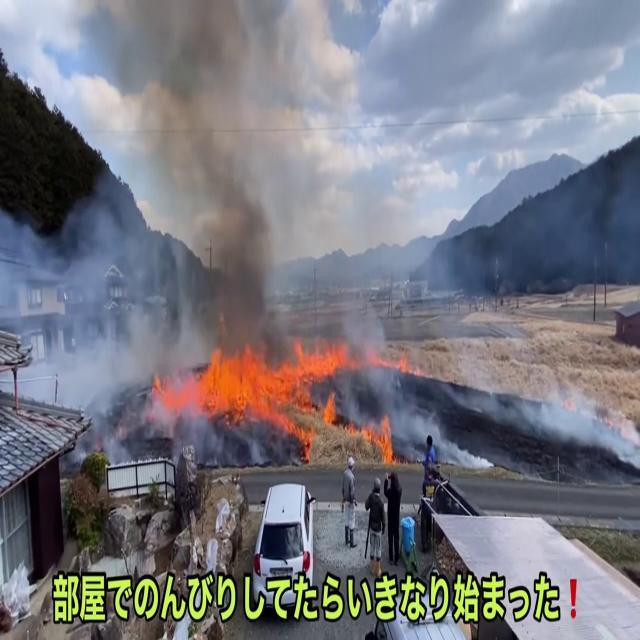Fire: (158, 323, 386, 446)
Smoke: (85, 0, 313, 352), (5, 194, 178, 411)
